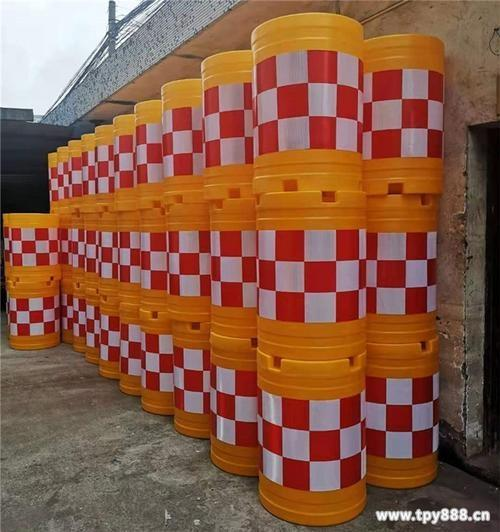cone_barrel: (249, 12, 361, 191), (256, 188, 363, 358), (257, 351, 365, 519), (361, 34, 443, 194), (363, 335, 438, 492), (366, 196, 435, 337), (199, 47, 253, 192), (208, 337, 257, 475), (209, 198, 257, 336), (163, 201, 207, 314), (160, 76, 201, 196), (170, 315, 209, 440), (3, 212, 58, 279), (139, 306, 172, 414), (5, 282, 56, 350), (134, 93, 162, 204), (106, 296, 136, 389), (138, 203, 165, 306), (118, 299, 144, 397), (113, 108, 135, 209), (98, 294, 121, 380), (93, 121, 113, 205), (65, 139, 79, 208), (50, 144, 64, 213), (80, 131, 93, 201)
